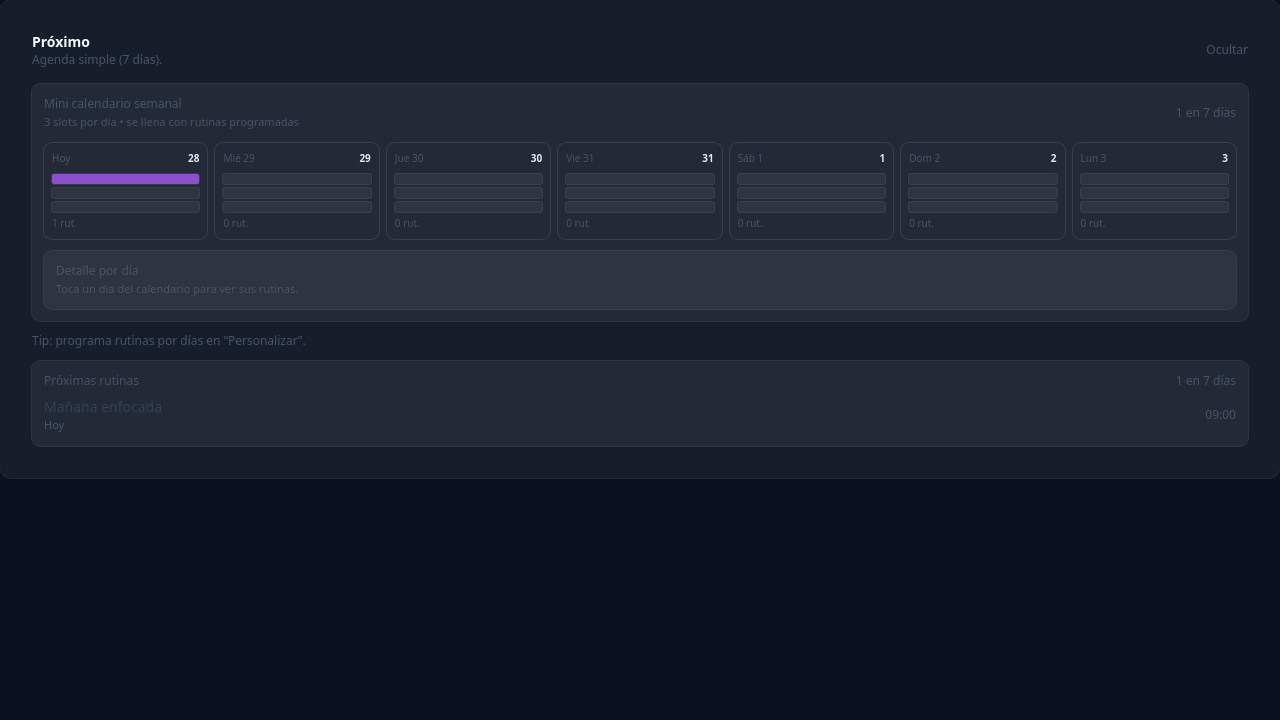
UpcomingWidget › shows the selected day detail with an hour in the night theme
The image size is (1280, 720).
Click the button "Hoy 28 1 rut.": (126, 190) [44,142,207,238]
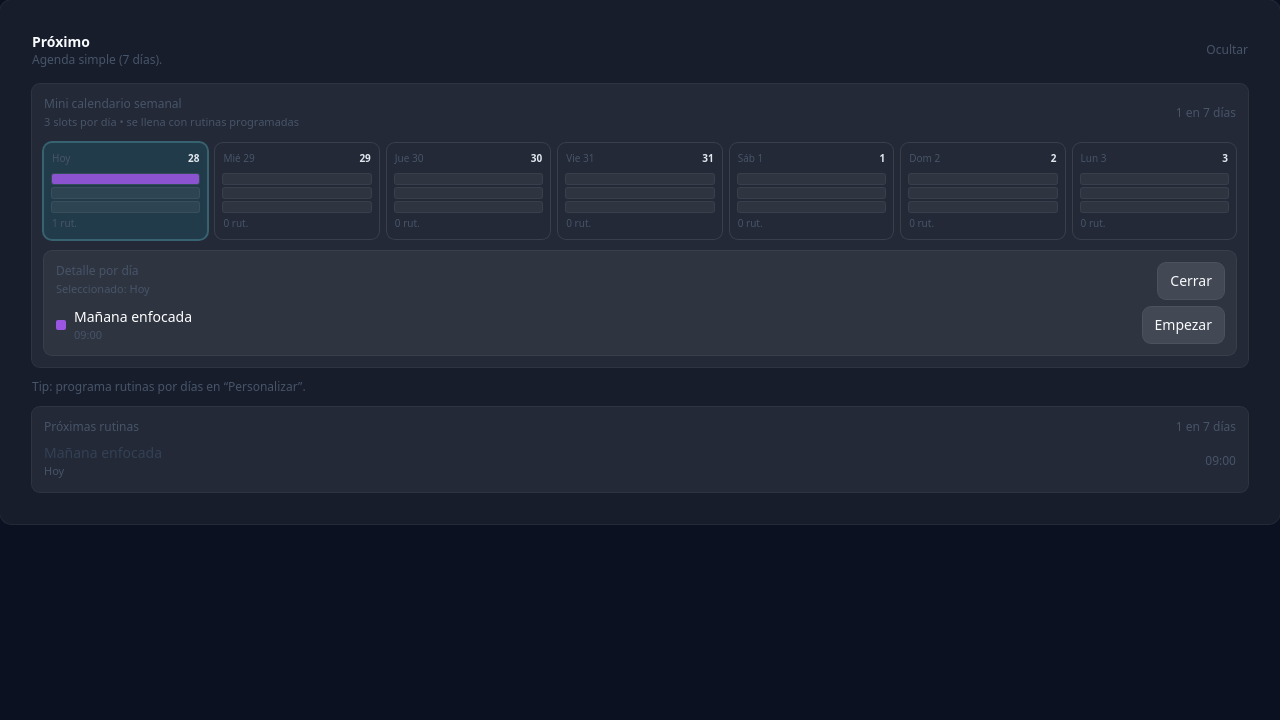
Expected: the text "Seleccionado: Hoy" is shown, [56,280,150,297]
Expected: the text "Mañana enfocada" below "Seleccionado: Hoy" is shown, [74,306,192,326]
